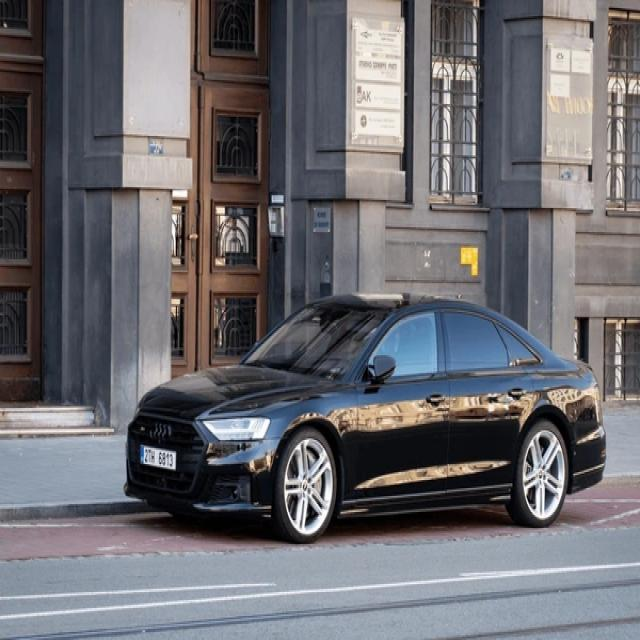audi: (146, 416, 173, 445)
